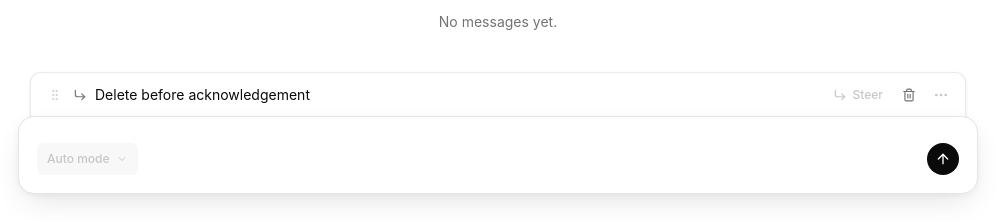
it: TaskChatThread Paperclip Runner queue › cancels an optimistic queued row locally before server acknowledgement
Click the button with test id "task-chat-queued-discard-optimistic-local-1" at (909, 94), box [895,80,923,108]
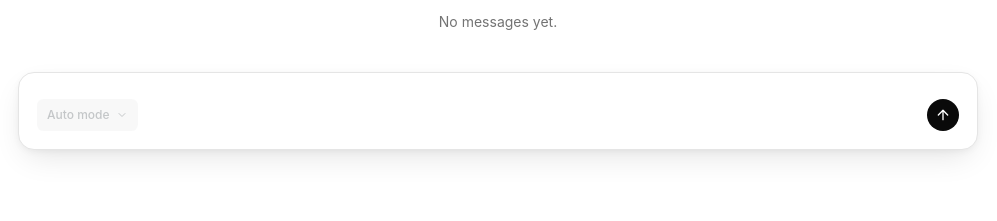
expect the element with test id "task-chat-queued-message-optimistic-local-1" is gone: met
